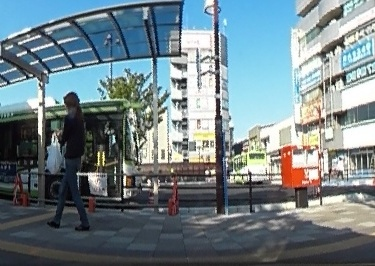person: (49, 88, 92, 227), (335, 153, 344, 182)
